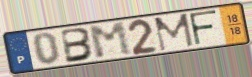0: (31, 31, 63, 67)
2: (127, 17, 160, 57)
B: (60, 26, 96, 65)
F: (187, 9, 219, 48)
M: (86, 20, 135, 61), (152, 12, 196, 53)
